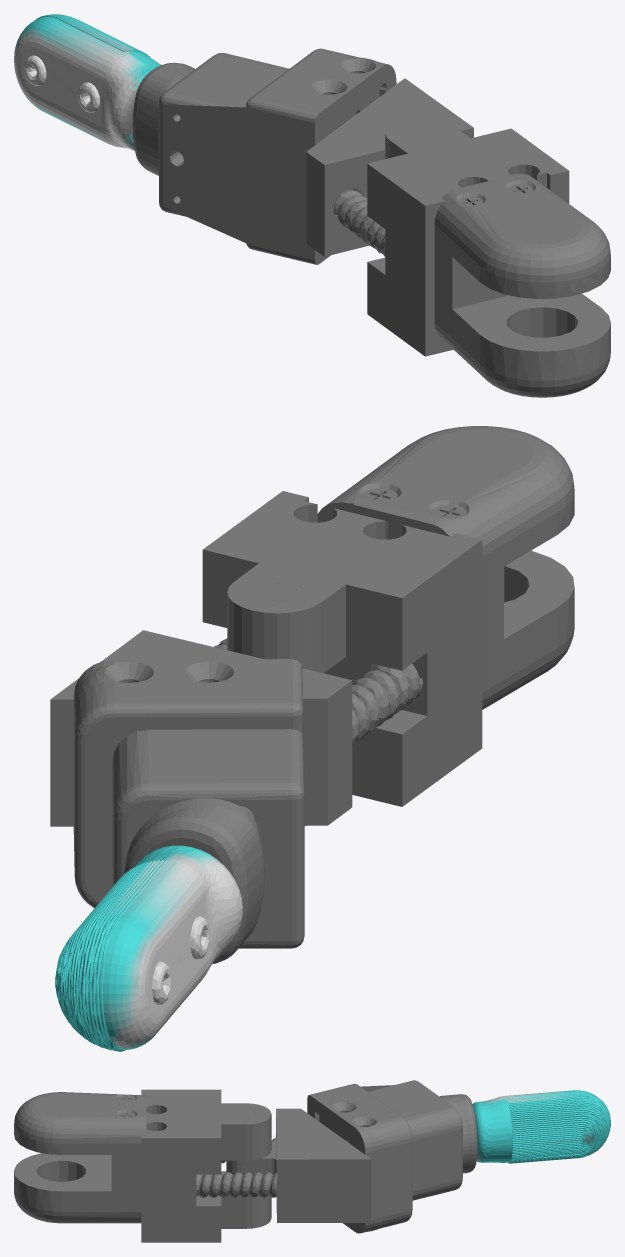
File: soft_biotac_assembly_scale1.dae
3 renders of one model, top to bottom at view 1: azimuth 30°, elevation 25°; view 2: azimuth 150°, elevation 25°; view 3: azimuth 270°, elevation 25°, orthographic. The views are drawn at different scales.
Visible parts, largest first — view 1: node; view 2: node; view 3: node.
Boxes of the visible parts, bbox=[...] form: node: bbox=[14, 14, 610, 397]; node: bbox=[50, 426, 574, 1051]; node: bbox=[14, 1080, 610, 1242].
Size of the model in its own units: 0.037 by 0.0242 by 0.1192.
